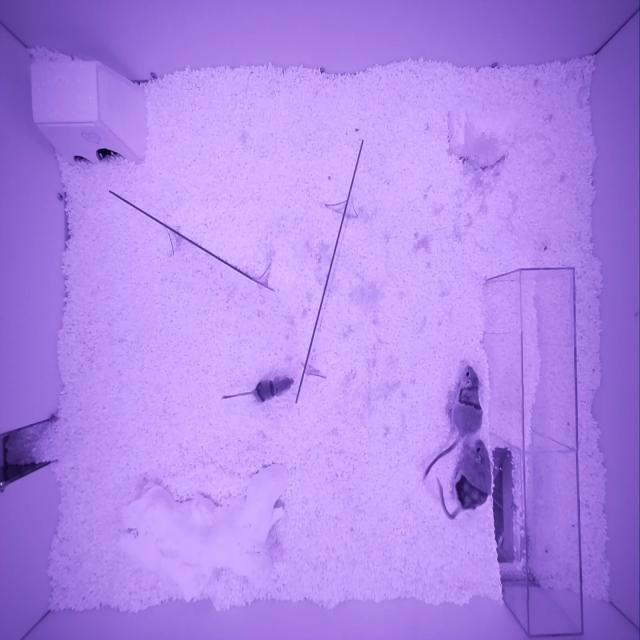adult_back: (454, 439, 494, 509)
adult_front: (452, 365, 482, 435)
pup_h_stripe: (253, 373, 294, 401)
